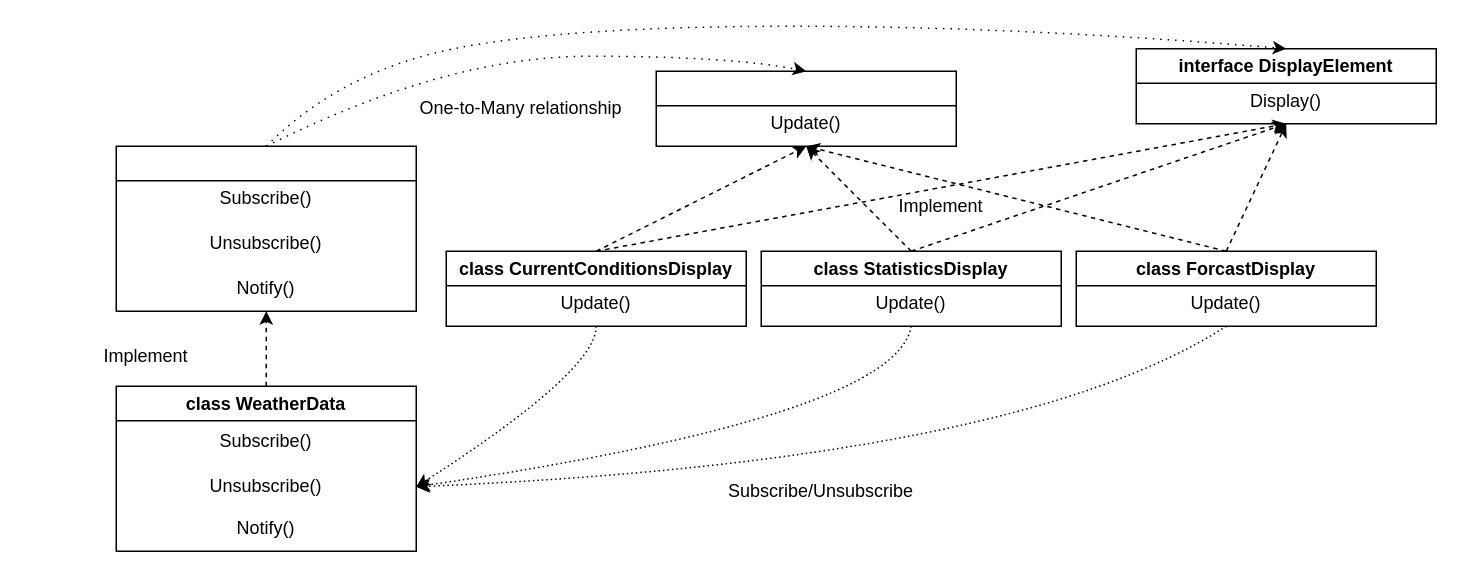
The diagram is 1463 pixels wide and 578 high, and some of its shapes have lost their labels. The shapes that lost their labels are listed below. From the top down, each one's box as (x1, y1, x2, y2) in pixels, then its label:
(655, 70, 956, 146): interface Observer
(115, 145, 416, 311): interface Subject
